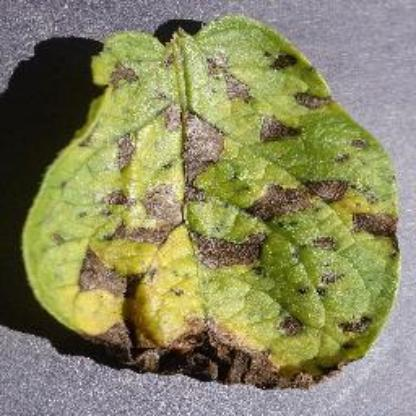Early-Blight: (16, 13, 404, 392)
